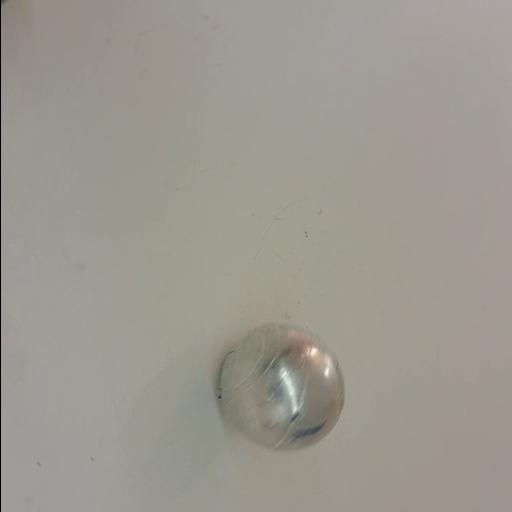alive: (214, 318, 348, 458)
